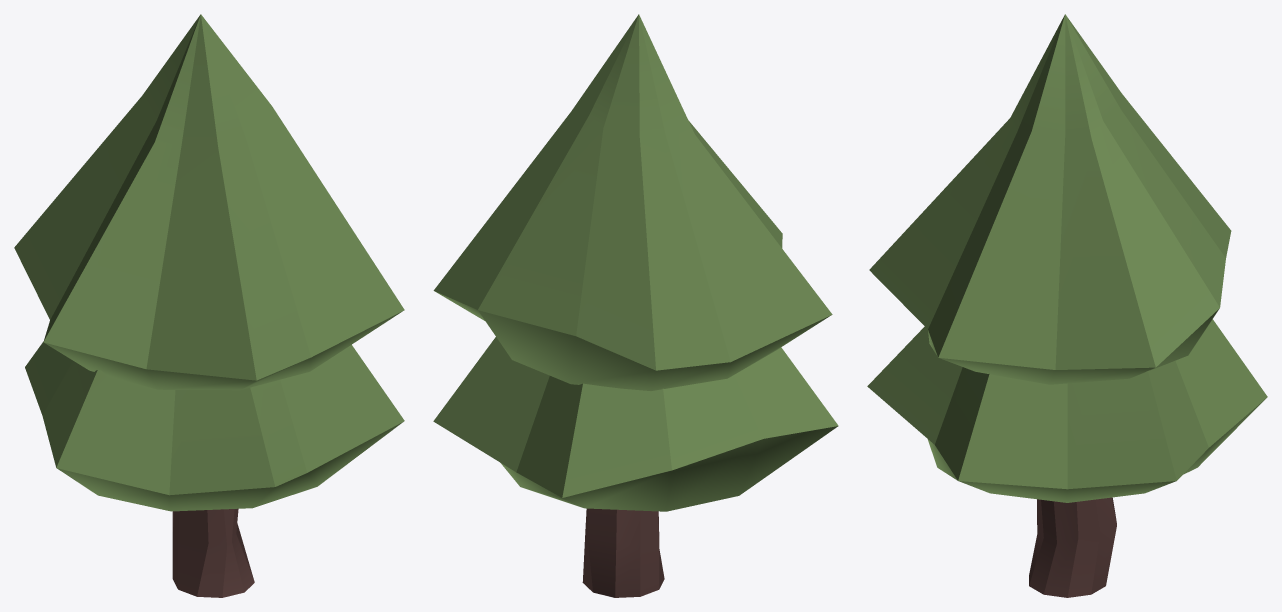
The model's file is tree01.fbx.
3 views of the same model, side by side, from view 1: azimuth 30°, elevation 25°; view 2: azimuth 150°, elevation 25°; view 3: azimuth 270°, elevation 25° (orthographic).
Parts seen in each view (by area): view 1: leaves1, leaves2, trunk; view 2: leaves1, leaves2, trunk; view 3: leaves1, leaves2, trunk.
Part boxes in pixels (x1=…): leaves1: x1=14, y1=14, x2=404, y2=390; leaves2: x1=25, y1=341, x2=404, y2=511; trunk: x1=172, y1=508, x2=254, y2=597; leaves1: x1=433, y1=14, x2=832, y2=390; leaves2: x1=433, y1=337, x2=838, y2=511; trunk: x1=582, y1=508, x2=664, y2=597; leaves1: x1=869, y1=14, x2=1231, y2=384; leaves2: x1=867, y1=319, x2=1267, y2=502; trunk: x1=1029, y1=497, x2=1116, y2=597.
Bounding box in the file's own units: 1.88 × 3.05 × 1.98.
